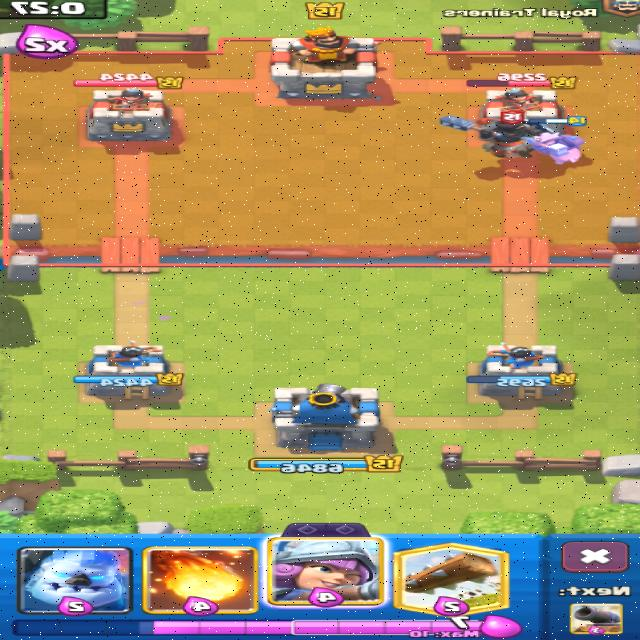Enemy-DarkPrince-Shield: (441, 110, 548, 158)
Enemy-KingTower: (271, 27, 378, 98)
Enemy-PrincessTower: (89, 88, 171, 141), (481, 88, 562, 118)
Player-HogRider: (534, 133, 583, 164)
Player-KingTower-Activated: (271, 384, 380, 451)
Player-PrincessTower: (467, 343, 576, 399), (76, 342, 182, 399)
